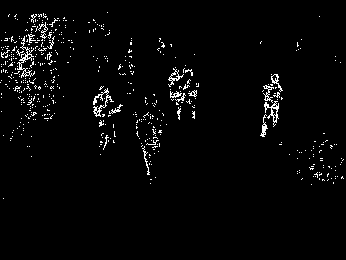person: (133, 93, 165, 182), (94, 85, 122, 152), (260, 72, 283, 138), (182, 65, 200, 120), (168, 67, 184, 120)
